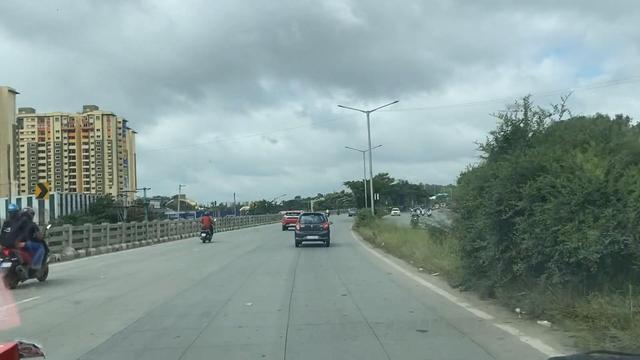LMV: (5, 212, 49, 271), (297, 212, 324, 242), (199, 212, 213, 241)
